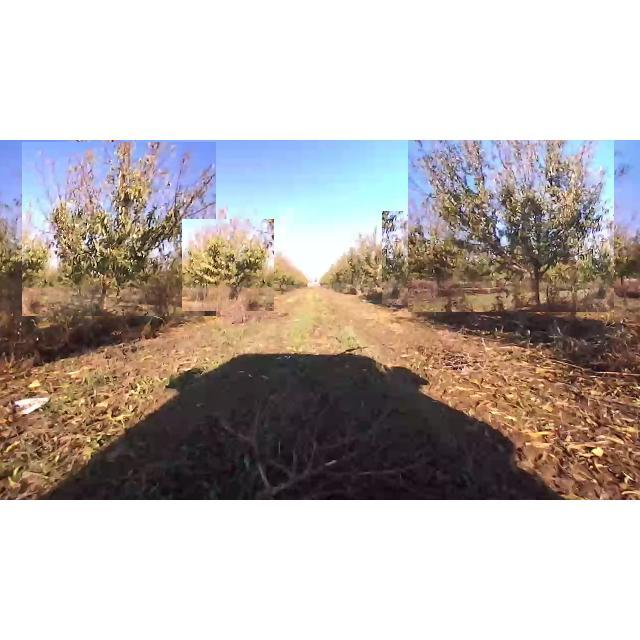tree: (408, 140, 614, 312), (22, 142, 216, 316), (182, 219, 274, 311), (382, 211, 434, 305)
